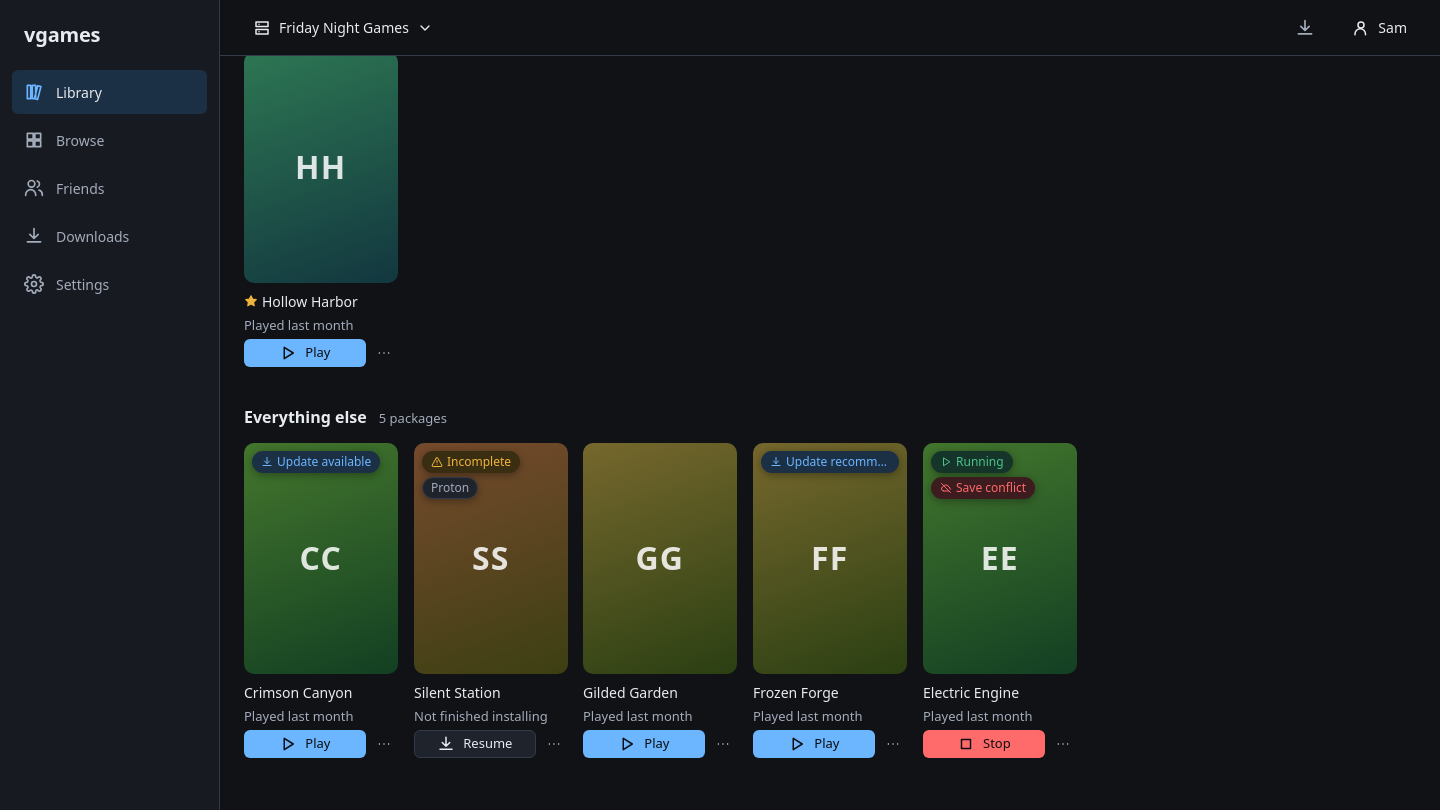
Test: library › shows why a move failed
(page scrolled)
Expected: the element "Crimson Canyon" is shown, [244,443,398,758]
Step 1. Click the button named "More actions for Crimson Canyon" → (384, 744), box [370,730,398,758]
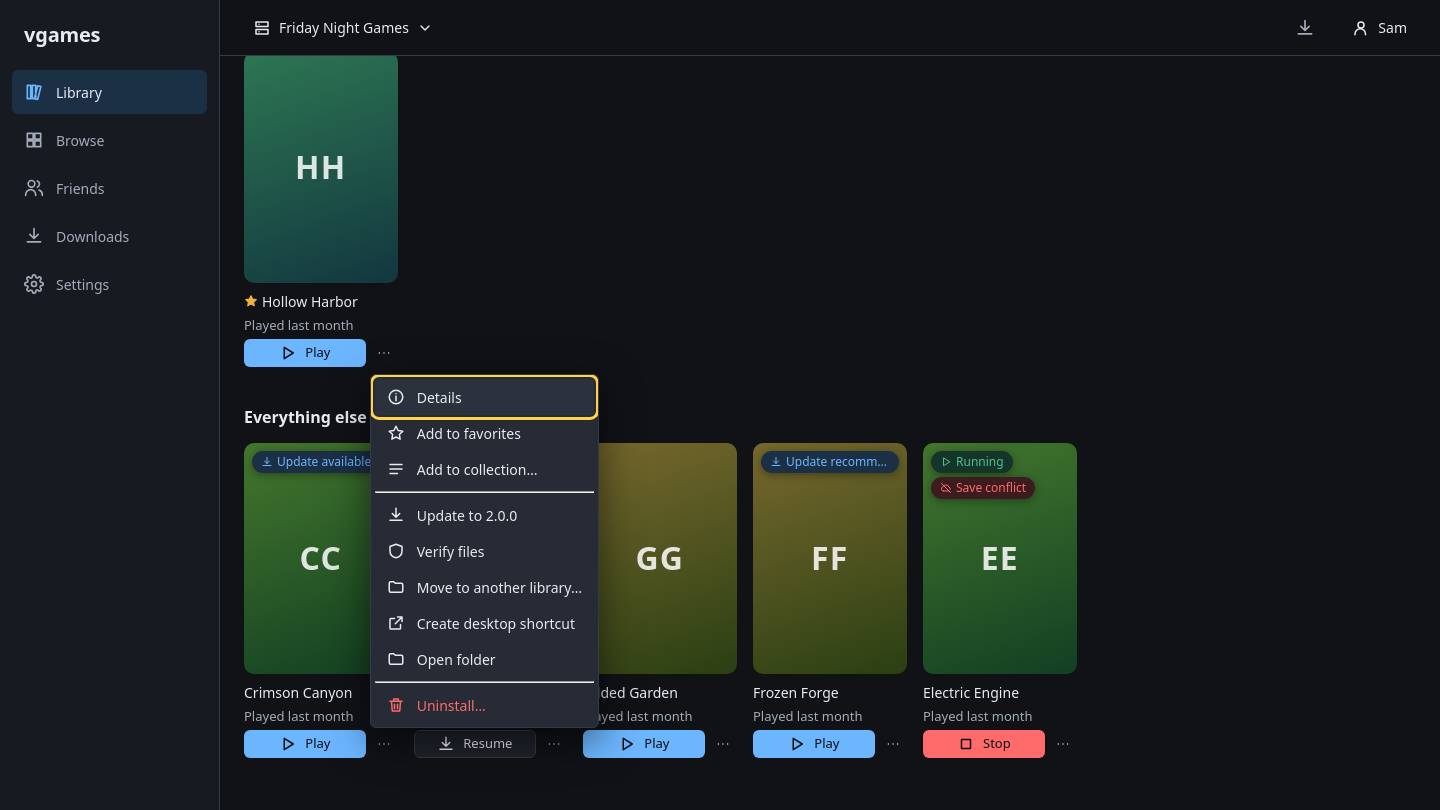
Step 2. Click the menu item "Move to another library…" → (484, 587), box [375,569,594,605]
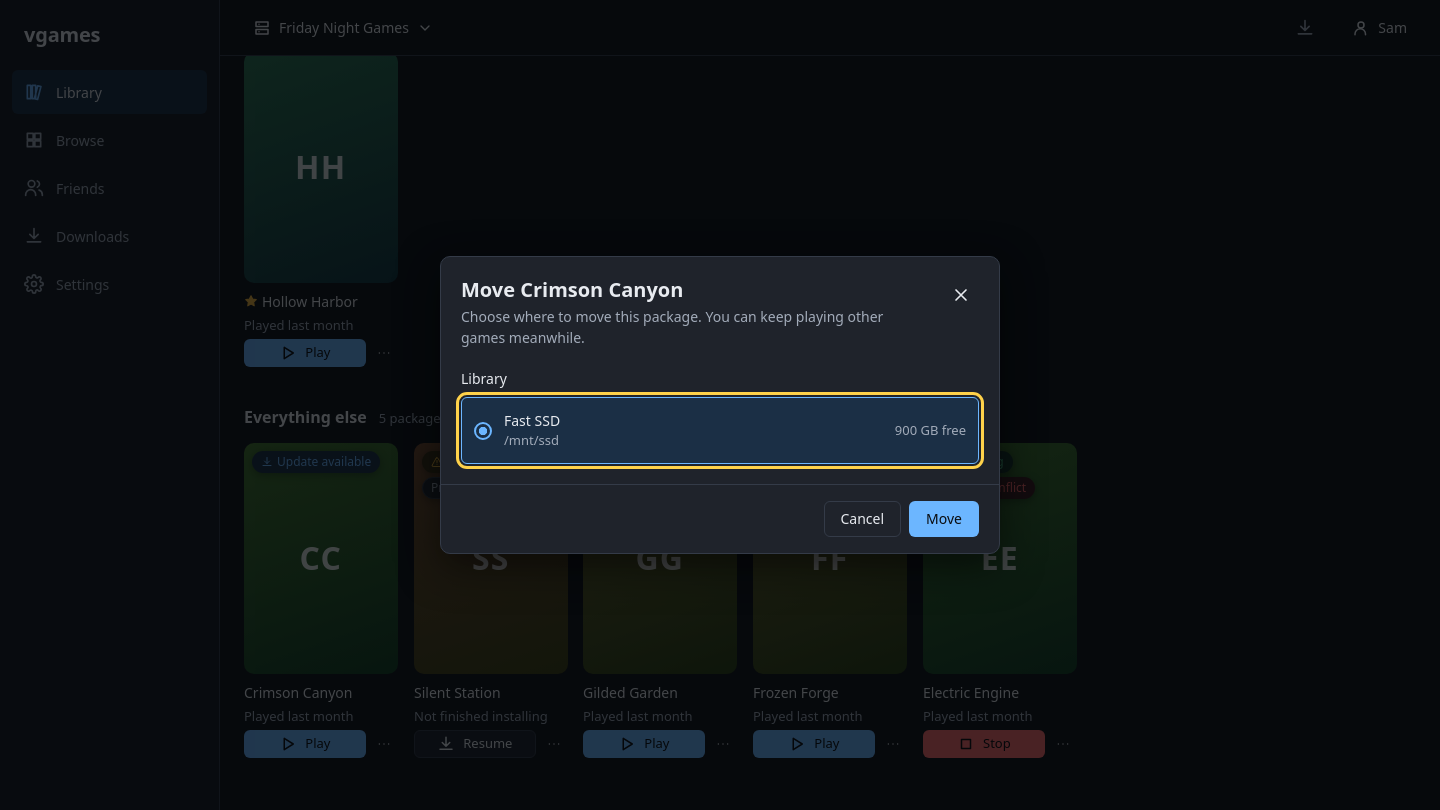
Step 3. Click the button "Move" → (944, 519), box [909,501,979,537]
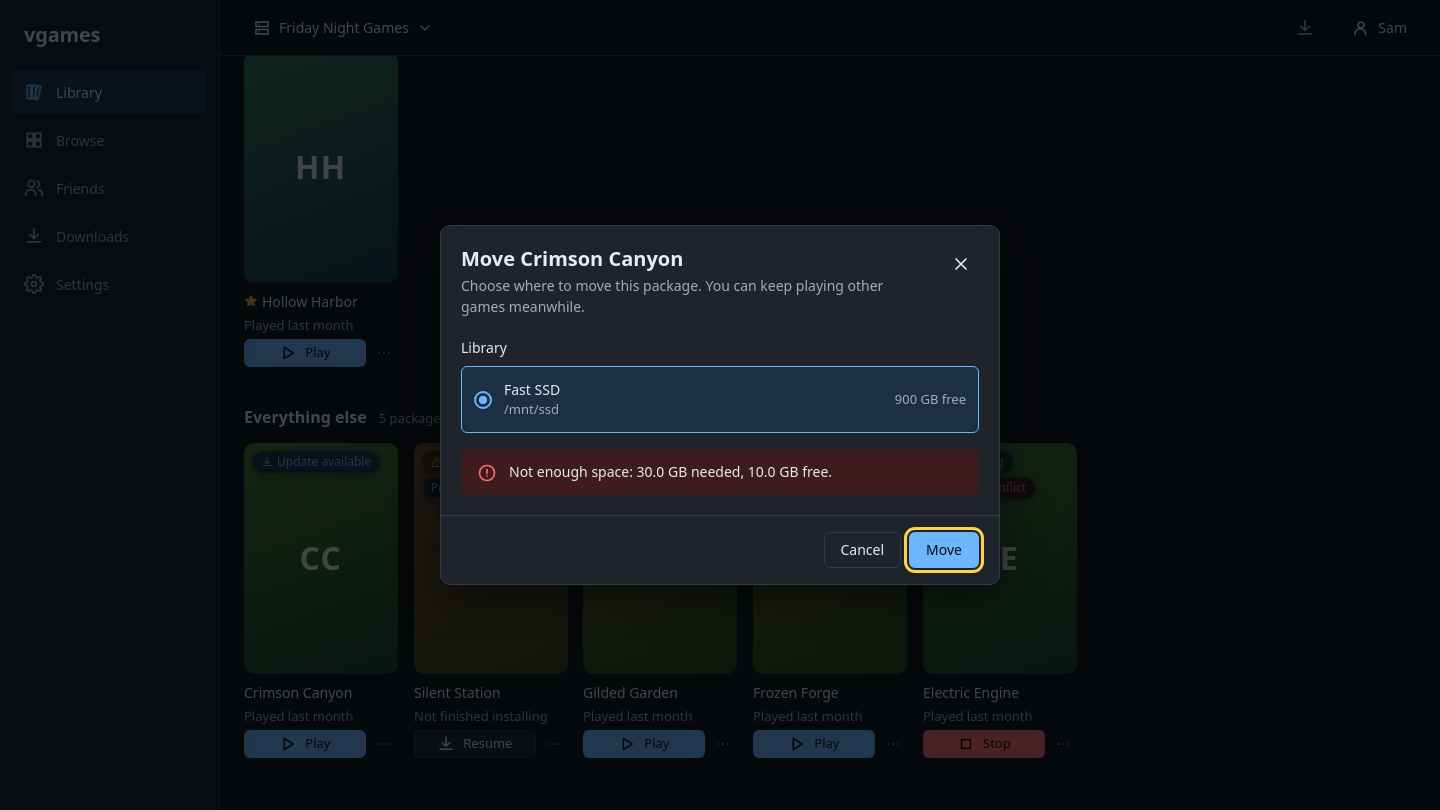
Now the message reads "Not enough space: 30.0 GB needed, 10.0 GB free.", box [509,462,832,481]
